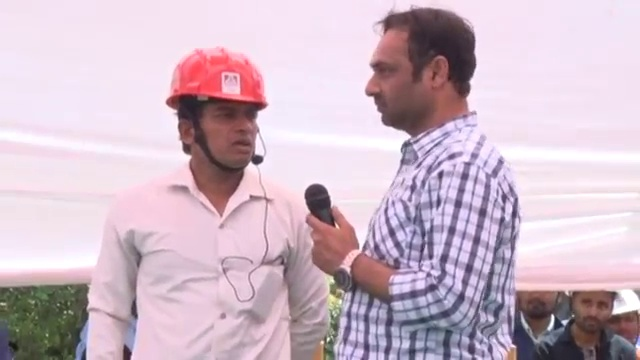helmet: (164, 38, 269, 110), (609, 289, 640, 317)
helmet_off: (364, 8, 480, 139), (565, 288, 621, 341), (517, 290, 559, 327)
helmet_on: (165, 40, 270, 179), (607, 289, 640, 342)
person: (79, 37, 333, 359), (340, 0, 529, 360), (555, 290, 638, 360), (510, 287, 568, 360)
